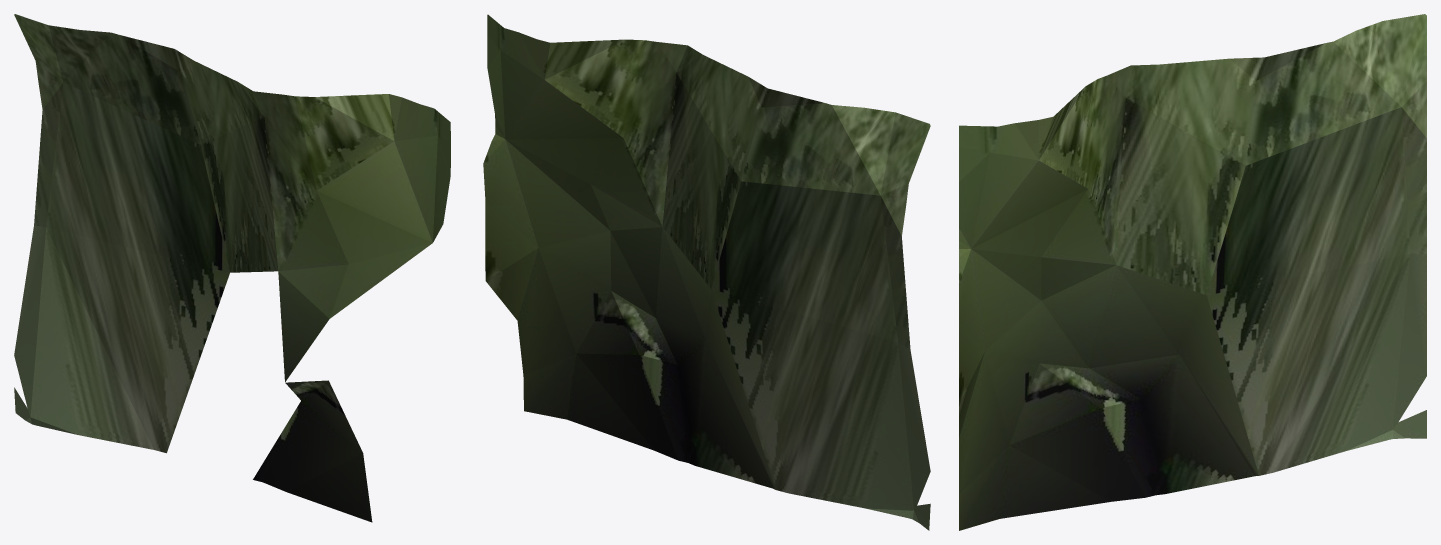
3 views of the same model, side by side, from view 1: azimuth 30°, elevation 25°; view 2: azimuth 210°, elevation 25°; view 3: azimuth 270°, elevation 25° (orthographic). The views are drawn at different scales.
Bounding box in the file's own units: 1.7 × 2.95 × 2.95.
3 materials, 3 textured.
